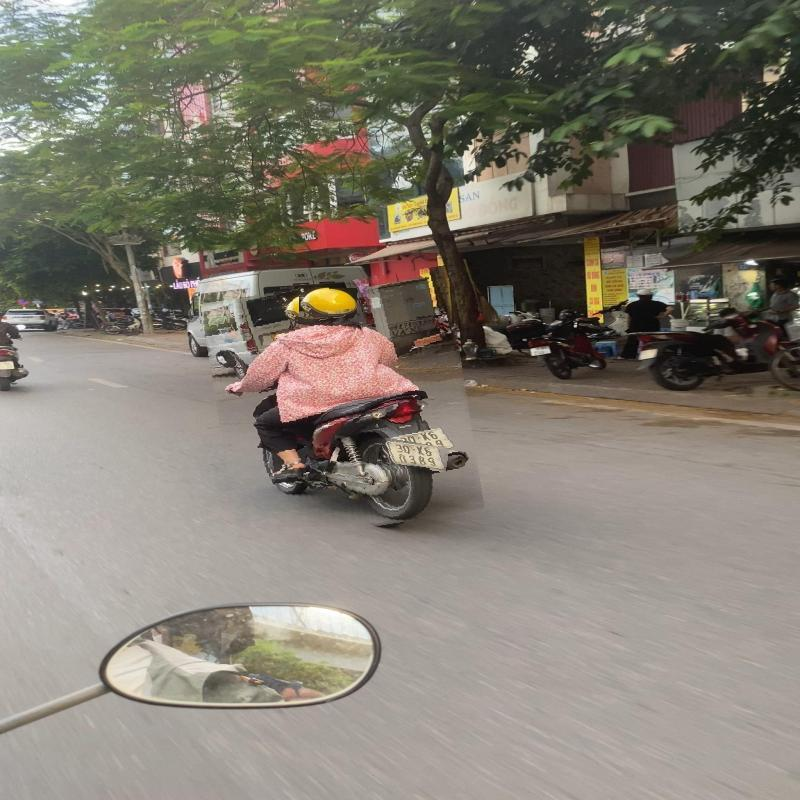helmet: (299, 288, 357, 318)
licenseplate: (380, 439, 448, 470)
motorcyclist: (209, 274, 476, 539)
